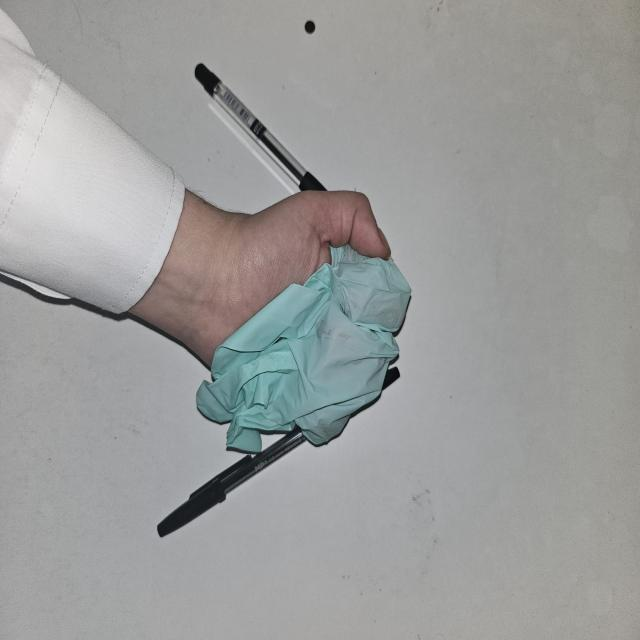glove_partial: (195, 187, 412, 455)
